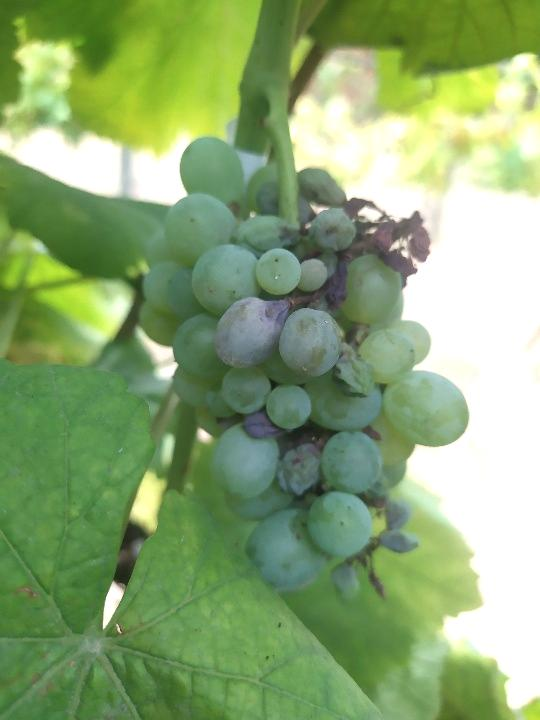grape: (136, 134, 474, 604)
